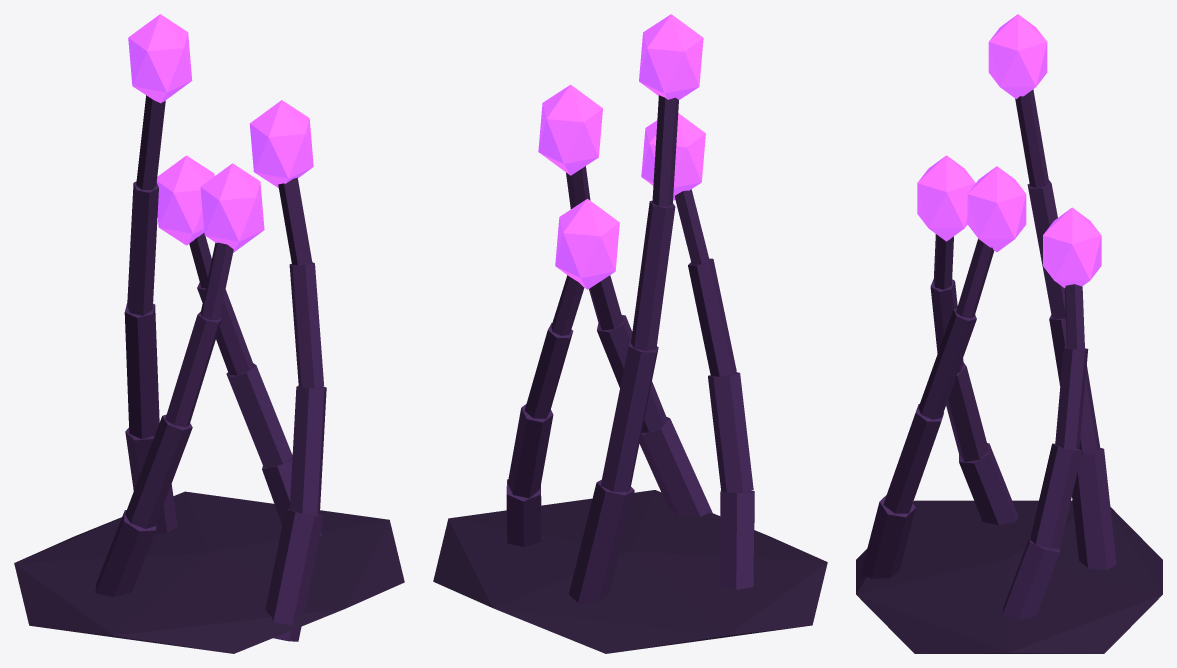
The model's file is mire_tendril_d.glb.
3 renders of one model, left to right at view 1: azimuth 30°, elevation 25°; view 2: azimuth 150°, elevation 25°; view 3: azimuth 270°, elevation 25°, orthographic. The views are drawn at different scales.
Parts seen in each view (by area): view 1: Mire_Base.009, Tendril_4_1.001, Bud_2.003, Bud_3.003, Bud_4.001, Tendril_4_2.001, Tendril_2_2.003, Tendril_3_2.003, Bud_1.003, Tendril_2_3.003, Tendril_4_3.001, Tendril_1_2.003 (+9 smaller); view 2: Mire_Base.009, Tendril_2_1.003, Tendril_2_2.003, Bud_4.001, Bud_1.003, Bud_2.003, Tendril_2_3.003, Tendril_3_2.003, Tendril_4_1.001, Tendril_3_1.003, Tendril_3_3.003, Tendril_1_2.003 (+9 smaller); view 3: Mire_Base.009, Tendril_2_1.003, Bud_4.001, Bud_2.003, Bud_1.003, Bud_3.003, Tendril_1_2.003, Tendril_4_2.001, Tendril_4_3.001, Tendril_4_1.001, Tendril_1_1.003, Tendril_3_1.003 (+9 smaller).
Boxes of the visible parts, x1,y1,x2,y2 form: Mire_Base.009: [14, 491, 404, 653]; Tendril_4_1.001: [265, 509, 323, 641]; Bud_2.003: [128, 14, 192, 103]; Bud_3.003: [200, 163, 264, 252]; Bud_4.001: [249, 100, 313, 187]; Tendril_4_2.001: [289, 385, 326, 514]; Tendril_2_2.003: [124, 303, 159, 439]; Tendril_3_2.003: [125, 414, 192, 528]; Bud_1.003: [156, 155, 214, 245]; Tendril_2_3.003: [127, 181, 158, 315]; Tendril_4_3.001: [289, 262, 324, 388]; Tendril_1_2.003: [226, 363, 292, 467]; Mire_Base.009: [433, 490, 827, 653]; Tendril_2_1.003: [569, 480, 634, 602]; Tendril_2_2.003: [600, 341, 658, 492]; Bud_4.001: [538, 84, 602, 175]; Bud_1.003: [555, 199, 619, 289]; Bud_2.003: [639, 14, 703, 99]; Tendril_2_3.003: [631, 200, 675, 350]; Tendril_3_2.003: [708, 372, 753, 492]; Tendril_4_1.001: [639, 417, 712, 516]; Tendril_3_1.003: [719, 491, 754, 590]; Tendril_3_3.003: [688, 258, 736, 376]; Tendril_1_2.003: [507, 404, 553, 498]; Mire_Base.009: [856, 500, 1162, 653]; Tendril_2_1.003: [1072, 447, 1116, 569]; Bud_4.001: [967, 166, 1026, 252]; Bud_2.003: [988, 14, 1047, 98]; Bud_1.003: [1043, 207, 1101, 288]; Bud_3.003: [917, 155, 975, 241]; Tendril_1_2.003: [1030, 443, 1082, 548]; Tendril_4_2.001: [883, 404, 943, 513]; Tendril_4_3.001: [918, 308, 976, 419]; Tendril_4_1.001: [860, 495, 915, 578]; Tendril_1_1.003: [1002, 537, 1059, 619]; Tendril_3_1.003: [959, 443, 1017, 524].
Bounding box in the file's own units: 1.5 × 2.34 × 1.16.
